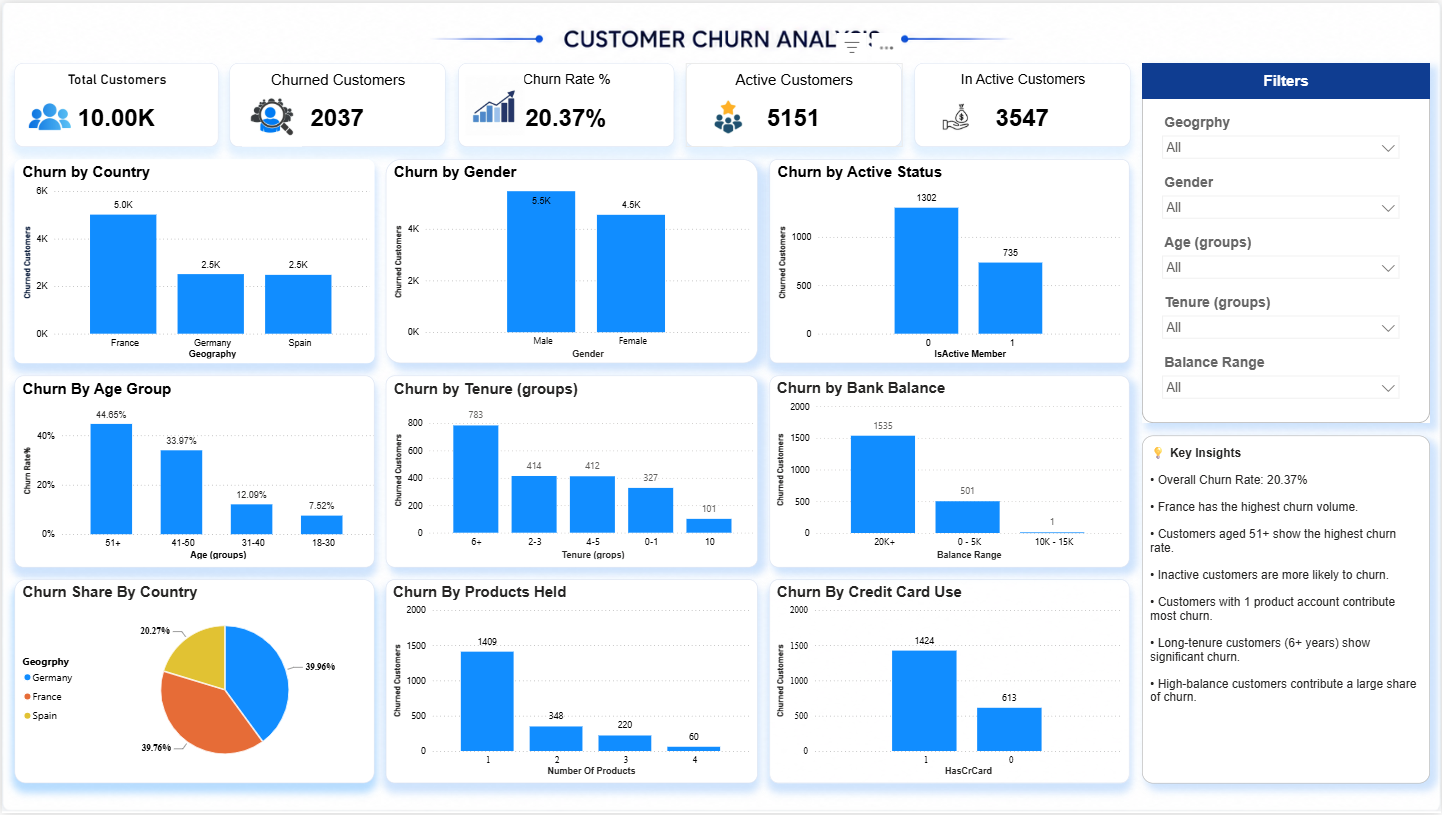

Layout of this report page (visuals, bound fields, positions):
{"tool":"powerbi","page":{"name":"Page 6","canvas":[1920,1080],"ordinal":0},"visuals":[{"type":"card","title":"Total Customers","fields":{"Values":["Count(bank_churn xlsx.CustomerId)"]},"box":[16,80,272,112],"z":0},{"type":"card","title":"Churned Customers","fields":{"Values":["CountNonNull(bank_churn xlsx.Exited)"]},"box":[304,80,288,112],"z":1000},{"type":"card","title":"Churn Rate %","fields":{"Values":["bank_churn xlsx.Churn Rate %"]},"box":[608,80,288,112],"z":2000},{"type":"card","title":"Active Customers","fields":{"Values":["bank_churn xlsx.Active Customers"]},"box":[912,80,288,112],"z":3000},{"type":"card","title":"In Active Customers","fields":{"Values":["bank_churn xlsx.Inactive Customers"]},"box":[1216,80,288,112],"z":4000},{"type":"clusteredColumnChart","title":"Churn by Active Status","fields":{"Category":["bank_churn xlsx.IsActiveMember"],"Y":["bank_churn xlsx.Churned Customers"]},"box":[1024,208,480,272],"z":5000},{"type":"clusteredColumnChart","title":"Churn by Country","fields":{"Category":["bank_churn xlsx.Geography"],"Y":["CountNonNull(bank_churn xlsx.Exited)"]},"box":[16,208,480,272],"z":6000},{"type":"clusteredColumnChart","title":"Churn By Age Group","fields":{"Category":["bank_churn xlsx.Age (groups)"],"Y":["bank_churn xlsx.Churn Rate %"]},"box":[16,496,480,256],"z":7000},{"type":"clusteredColumnChart","title":"Churn by Gender","fields":{"Category":["bank_churn xlsx.Gender"],"Y":["CountNonNull(bank_churn xlsx.Exited)"]},"box":[512,208,496,272],"z":8000},{"type":"clusteredColumnChart","title":"Churn By Credit Card Use","fields":{"Category":["bank_churn xlsx.HasCrCard"],"Y":["bank_churn xlsx.Churned Customers"]},"box":[1024,768,480,272],"z":9000},{"type":"clusteredColumnChart","title":"Churn by Tenure (groups)","fields":{"Category":["bank_churn xlsx.Tenure (groups)"],"Y":["bank_churn xlsx.Churned Customers"]},"box":[512,496,496,256],"z":10000},{"type":"clusteredColumnChart","title":"Churn by Bank Balance","fields":{"Category":["bank_churn xlsx.Balance Range"],"Y":["bank_churn xlsx.Churned Customers"]},"box":[1024,496,480,256],"z":11000},{"type":"clusteredColumnChart","title":"Churn By Products Held","fields":{"Category":["bank_churn xlsx.NumOfProducts"],"Y":["bank_churn xlsx.Churned Customers"]},"box":[512,768,496,272],"z":12000},{"type":"shape","box":[1520,80,384,480],"z":13000},{"type":"shape","box":[1520,80,384,48],"z":14000},{"type":"slicer","fields":{"Values":["bank_churn xlsx.Geogrphy"]},"box":[1536,144,336,80],"z":15000},{"type":"slicer","fields":{"Values":["bank_churn xlsx.Gender"]},"box":[1536,224,336,80],"z":16000},{"type":"slicer","fields":{"Values":["bank_churn xlsx.Age (groups)"]},"box":[1536,304,336,80],"z":17000},{"type":"slicer","fields":{"Values":["bank_churn xlsx.Tenure (groups)"]},"box":[1536,384,336,96],"z":18000},{"type":"slicer","fields":{"Values":["bank_churn xlsx.Balance Range"]},"box":[1536,464,336,80],"z":19000},{"type":"textbox","box":[1520,576,384,464],"z":20000},{"type":"pieChart","title":"Churn Share By Country","fields":{"Category":["bank_churn xlsx.Geogrphy"],"Y":["bank_churn xlsx.Churned Customers"]},"box":[16,768,480,272],"z":21000},{"type":"image","box":[32,112,64,80],"z":22000},{"type":"image","box":[320,112,80,80],"z":23000},{"type":"image","box":[608,96,96,80],"z":24000},{"type":"image","box":[1232,112,80,80],"z":25000},{"type":"image","box":[928,112,80,80],"z":26000}]}

Visuals, with their boxes in screenshot pixels (x1, y1, x2, y2), scaled from the page's 1920x1080 canvas onto the 1442x815 screenshot:
"Total Customers" card: {"left": 12, "top": 60, "right": 216, "bottom": 145}
"Churned Customers" card: {"left": 228, "top": 60, "right": 445, "bottom": 145}
"Churn Rate %" card: {"left": 457, "top": 60, "right": 673, "bottom": 145}
"Active Customers" card: {"left": 685, "top": 60, "right": 901, "bottom": 145}
"In Active Customers" card: {"left": 913, "top": 60, "right": 1130, "bottom": 145}
"Churn by Active Status" clusteredColumnChart: {"left": 769, "top": 157, "right": 1130, "bottom": 362}
"Churn by Country" clusteredColumnChart: {"left": 12, "top": 157, "right": 373, "bottom": 362}
"Churn By Age Group" clusteredColumnChart: {"left": 12, "top": 374, "right": 373, "bottom": 567}
"Churn by Gender" clusteredColumnChart: {"left": 385, "top": 157, "right": 757, "bottom": 362}
"Churn By Credit Card Use" clusteredColumnChart: {"left": 769, "top": 580, "right": 1130, "bottom": 785}
"Churn by Tenure (groups)" clusteredColumnChart: {"left": 385, "top": 374, "right": 757, "bottom": 567}
"Churn by Bank Balance" clusteredColumnChart: {"left": 769, "top": 374, "right": 1130, "bottom": 567}
"Churn By Products Held" clusteredColumnChart: {"left": 385, "top": 580, "right": 757, "bottom": 785}
shape: {"left": 1142, "top": 60, "right": 1430, "bottom": 423}
shape: {"left": 1142, "top": 60, "right": 1430, "bottom": 97}
slicer - bank_churn xlsx.Geogrphy: {"left": 1154, "top": 109, "right": 1406, "bottom": 169}
slicer - bank_churn xlsx.Gender: {"left": 1154, "top": 169, "right": 1406, "bottom": 229}
slicer - bank_churn xlsx.Age (groups): {"left": 1154, "top": 229, "right": 1406, "bottom": 290}
slicer - bank_churn xlsx.Tenure (groups): {"left": 1154, "top": 290, "right": 1406, "bottom": 362}
slicer - bank_churn xlsx.Balance Range: {"left": 1154, "top": 350, "right": 1406, "bottom": 411}
textbox: {"left": 1142, "top": 435, "right": 1430, "bottom": 785}
"Churn Share By Country" pieChart: {"left": 12, "top": 580, "right": 373, "bottom": 785}
image: {"left": 24, "top": 85, "right": 72, "bottom": 145}
image: {"left": 240, "top": 85, "right": 300, "bottom": 145}
image: {"left": 457, "top": 72, "right": 529, "bottom": 133}
image: {"left": 925, "top": 85, "right": 985, "bottom": 145}
image: {"left": 697, "top": 85, "right": 757, "bottom": 145}
